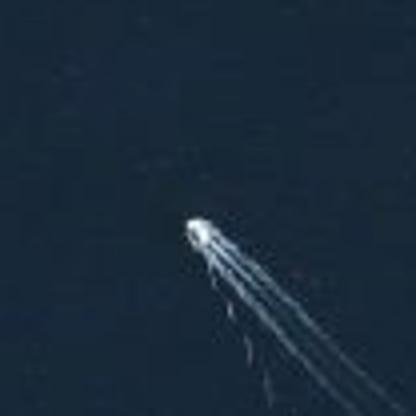ship: (180, 208, 220, 255)
